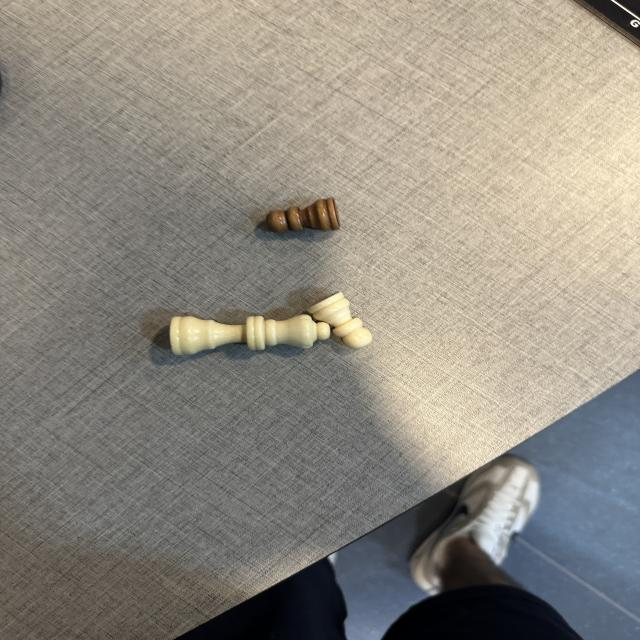Black-Pawn: (266, 198, 342, 234)
White-Pawn: (322, 304, 374, 350)
White-Queen: (168, 313, 331, 356)
